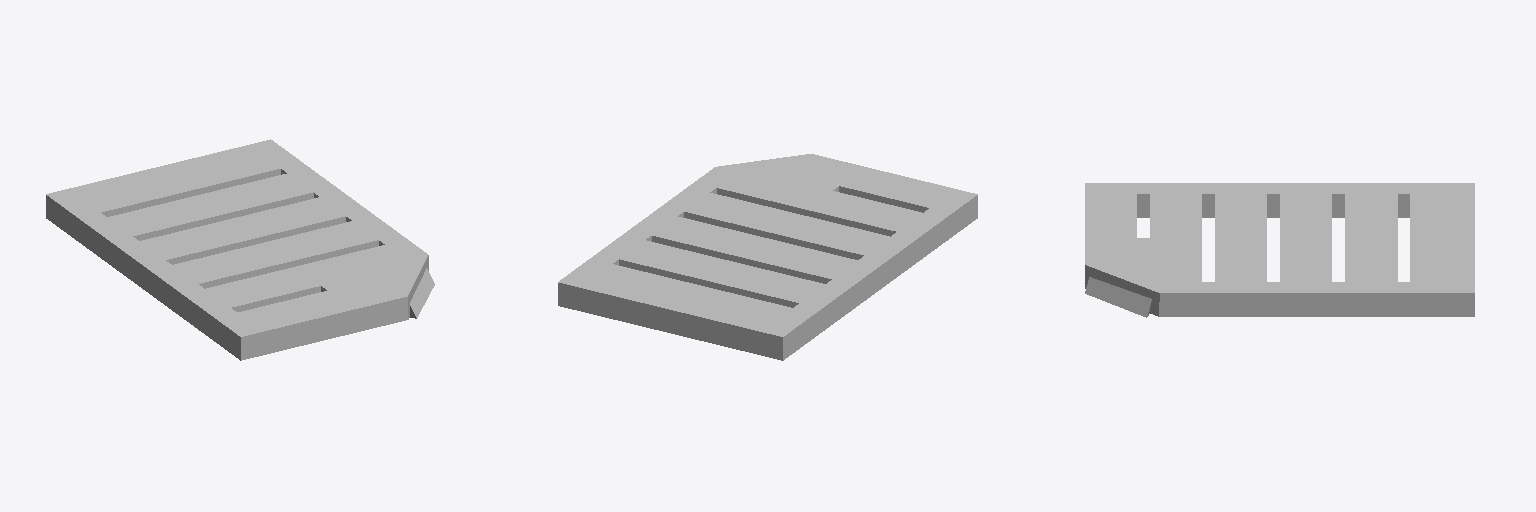
3 renders of one model, left to right at view 1: azimuth 30°, elevation 25°; view 2: azimuth 150°, elevation 25°; view 3: azimuth 270°, elevation 25°, orthographic.
Parts seen in each view (by area): view 1: obj_0; view 2: obj_0; view 3: obj_0.
Part boxes in pixels (x1,y1,x2,y2): obj_0: (46,139,434,360); obj_0: (558,154,977,360); obj_0: (1085,183,1474,317).
Size of the model in its own units: 20 by 3 by 30.02.